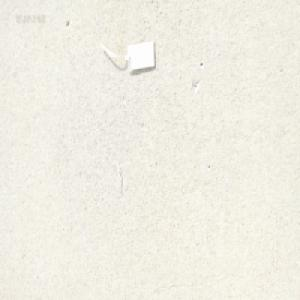LuggageTag: (99, 35, 157, 72)
